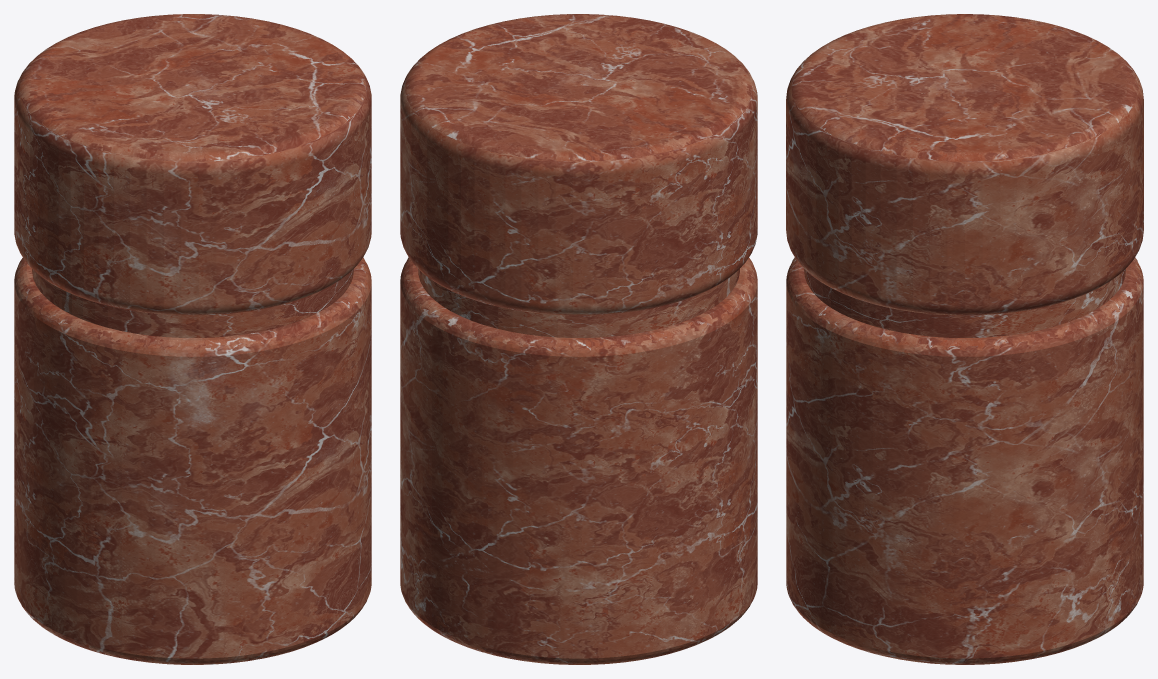
Rendered from shortDarkFlatCylinder.glb.
3 views of the same model, side by side, from view 1: azimuth 30°, elevation 25°; view 2: azimuth 150°, elevation 25°; view 3: azimuth 270°, elevation 25° (orthographic).
Visible parts, largest first — view 1: shortDarkFlatCylinder; view 2: shortDarkFlatCylinder; view 3: shortDarkFlatCylinder.
Boxes of the visible parts, x1,y1,x2,y2 form: shortDarkFlatCylinder: (14, 14, 371, 664); shortDarkFlatCylinder: (400, 14, 757, 664); shortDarkFlatCylinder: (786, 14, 1143, 664).
Bounding box in the file's own units: 2 × 3.15 × 2.
3 materials, 3 textured.
